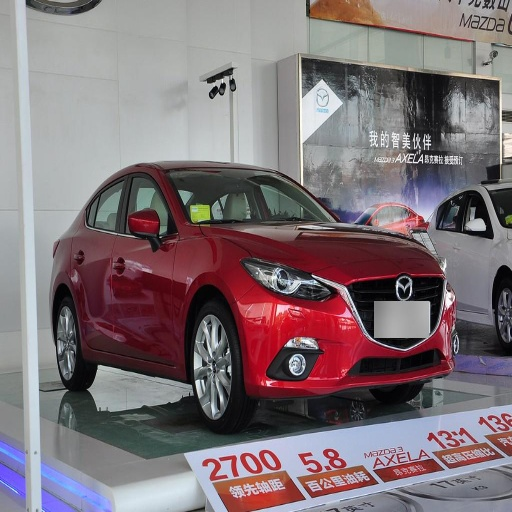back_left_light: (73, 171, 128, 348)
back_right_light: (236, 287, 444, 395)
front_bumper: (168, 169, 266, 223)
front_left_light: (110, 170, 175, 364), (278, 181, 316, 222)
front_right_door: (242, 257, 336, 301)
right_mirror: (317, 237, 439, 336)
trunk: (189, 302, 246, 428), (54, 295, 95, 389)
